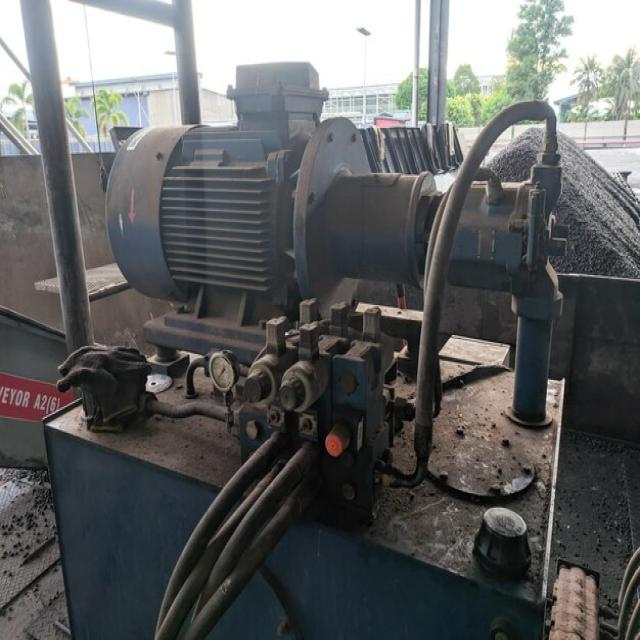compressor: (41, 59, 571, 637)
